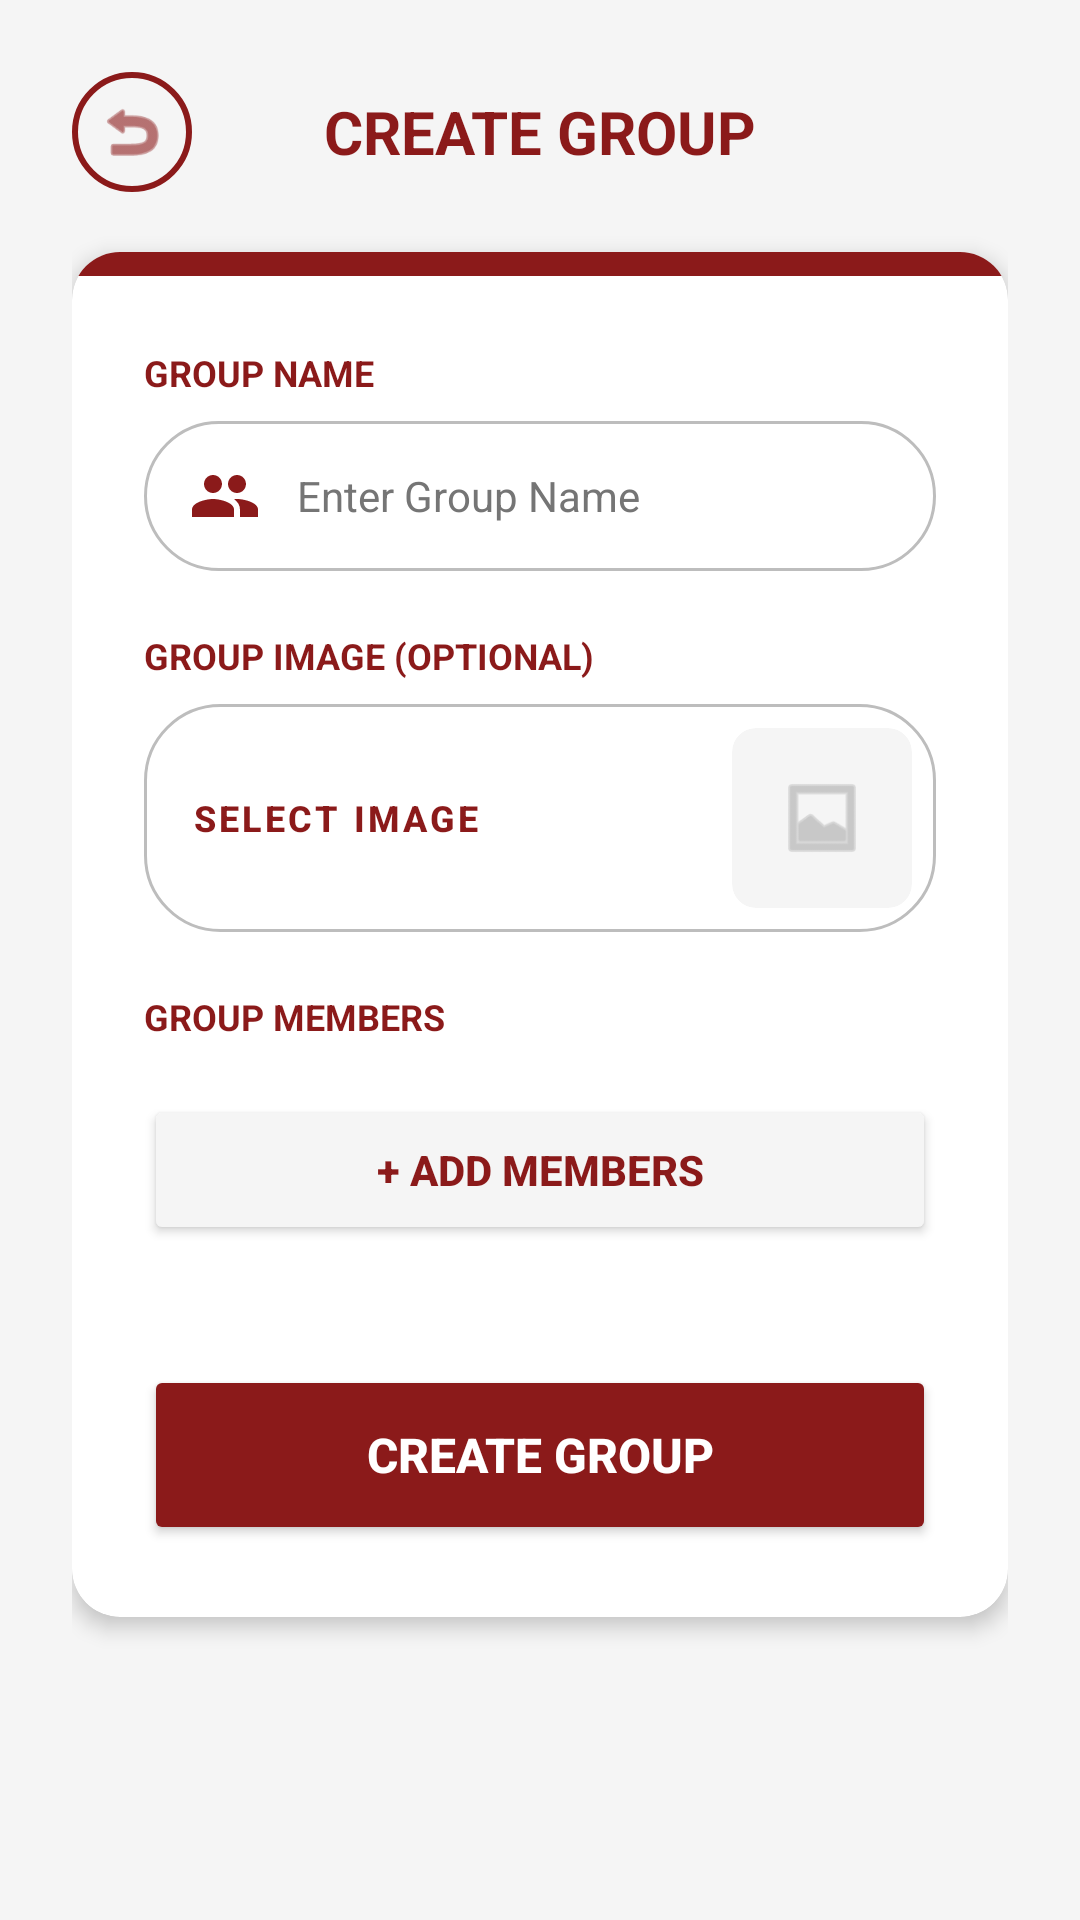

Named icons in this screenshot (1080px x 1920px) and their bounding boxes, (x1=x1, y1=y1, x2=x2, y2=y2):
gallery: (x1=788, y1=784, x2=856, y2=852)
revert: (x1=72, y1=72, x2=192, y2=192)
